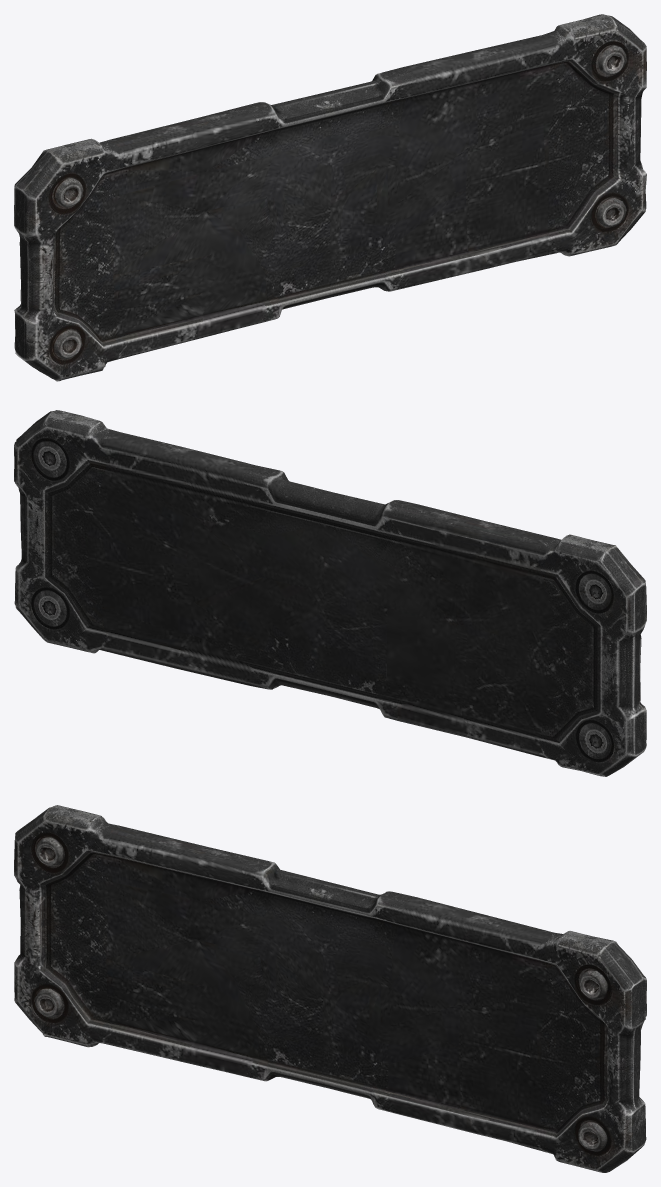
Rendered from Plate.glb.
The picture shows the model from 3 angles, top to bottom: view 1: azimuth 30°, elevation 25°; view 2: azimuth 150°, elevation 25°; view 3: azimuth 330°, elevation 25°; orthographic projection.
Size of the model in its own units: 1 by 0.3525 by 0.0594.
1 material, 1 textured.
